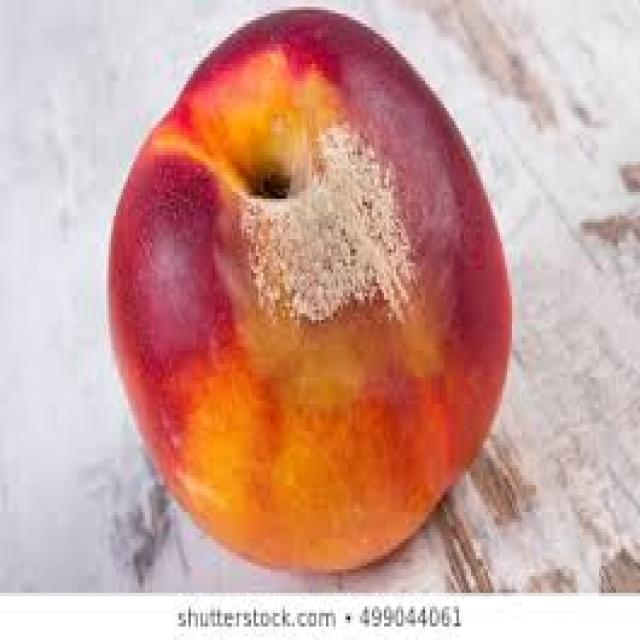organic waste: (106, 3, 510, 570)
